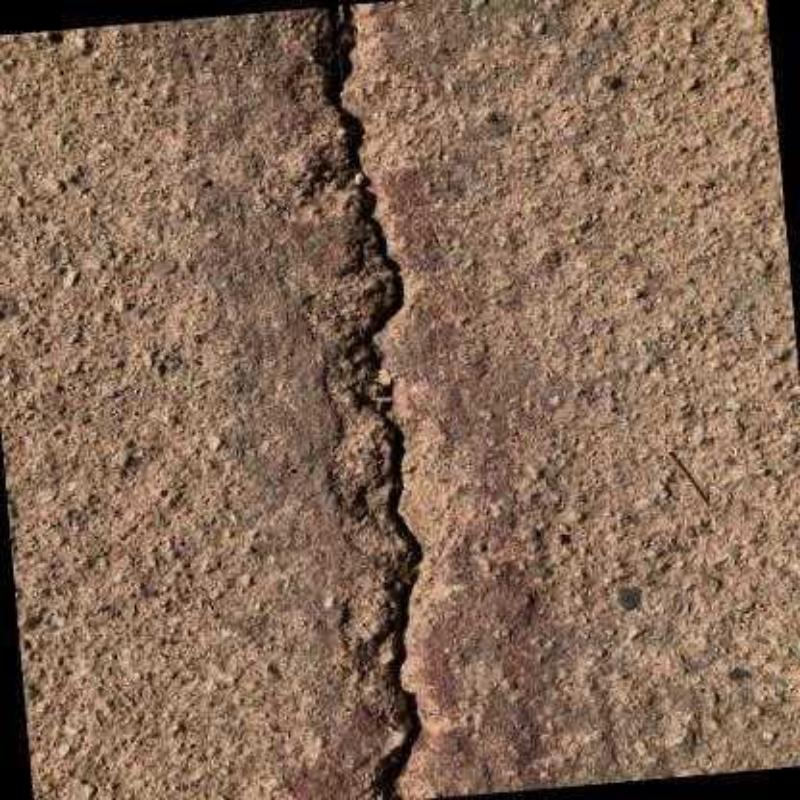pothole: (327, 3, 423, 800)
